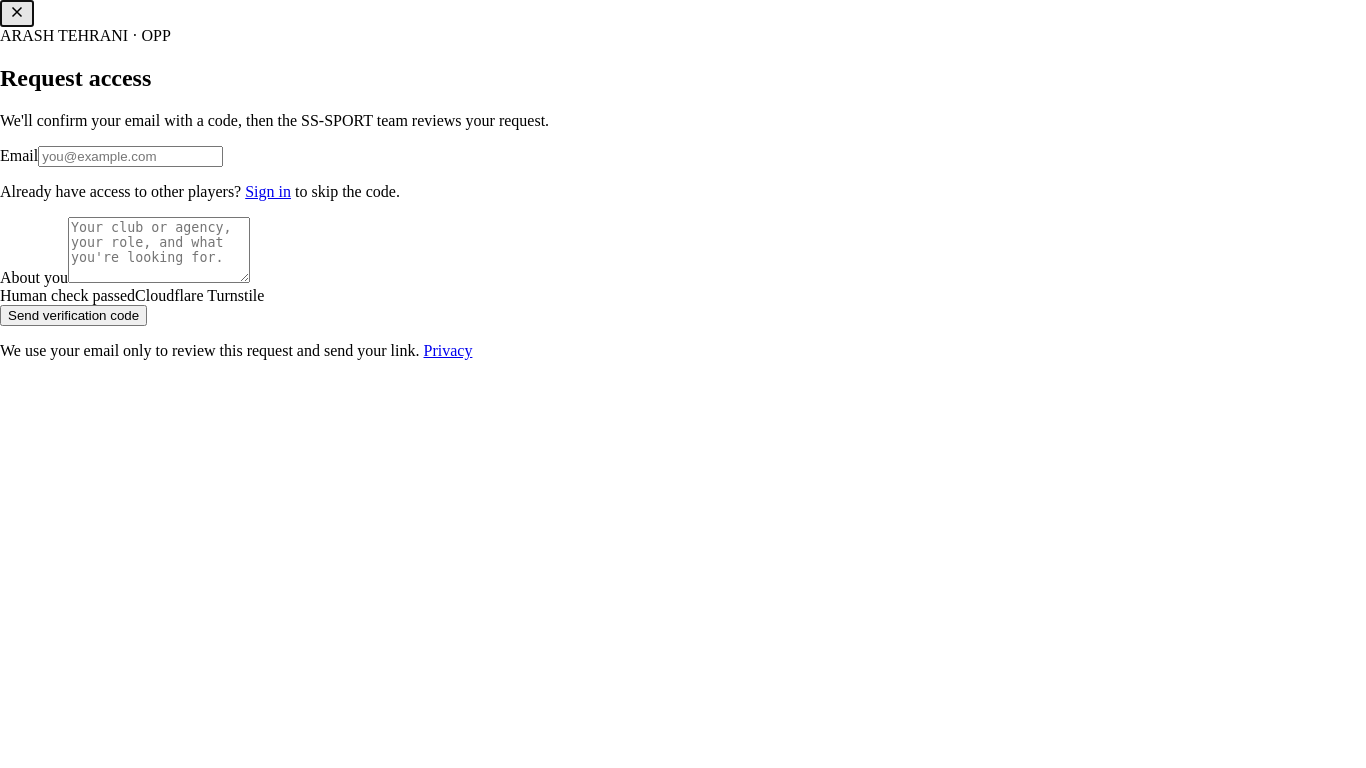
Test: RequestAccessModal (P-3 UI, canvas Locked modal), signed out › asks for all six digits before sending
The width and height of the screenshot is (1366, 768).
Type "scout@club.com" into the field labelled "Email" at {"x": 131, "y": 156}, box [38,146,223,167]
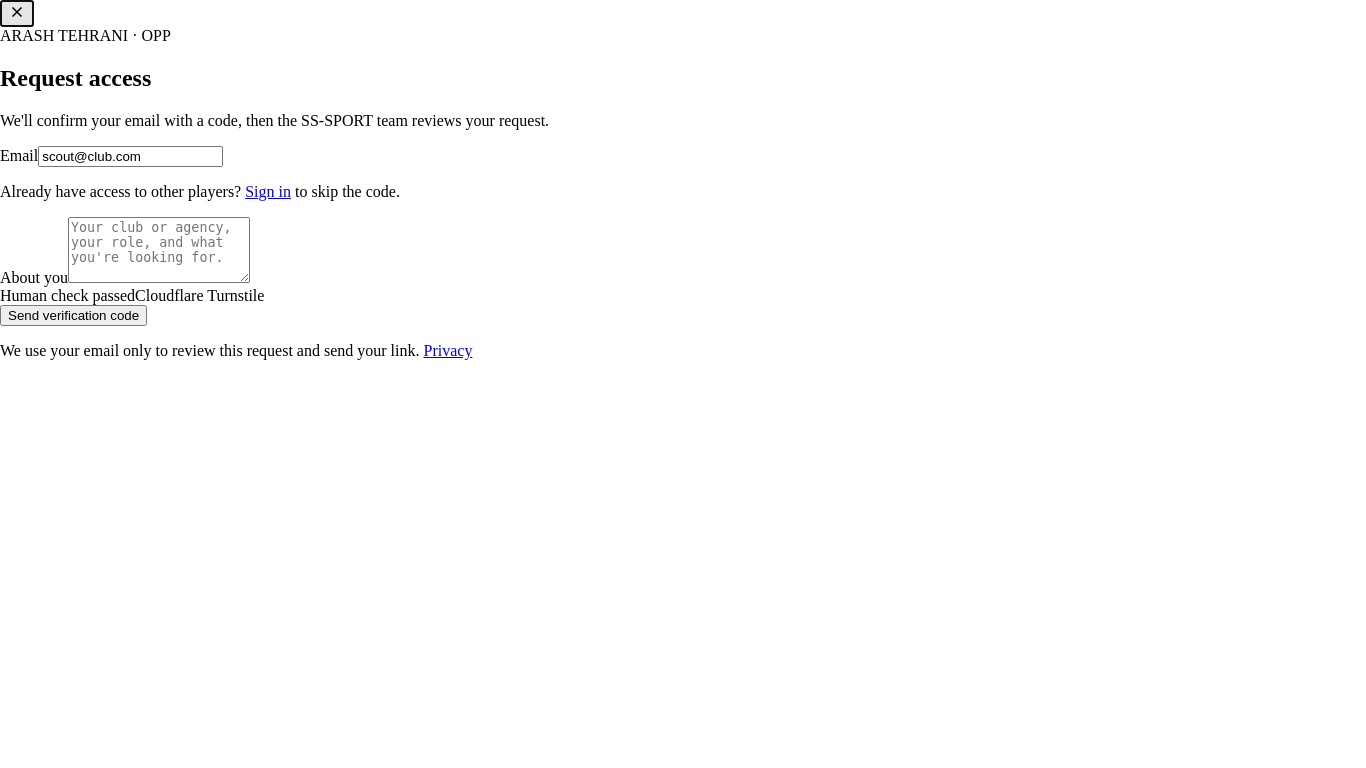
Type "Head scout at Club Aurora" into the text box labelled "About you" at {"x": 159, "y": 250}, box [68,217,250,283]
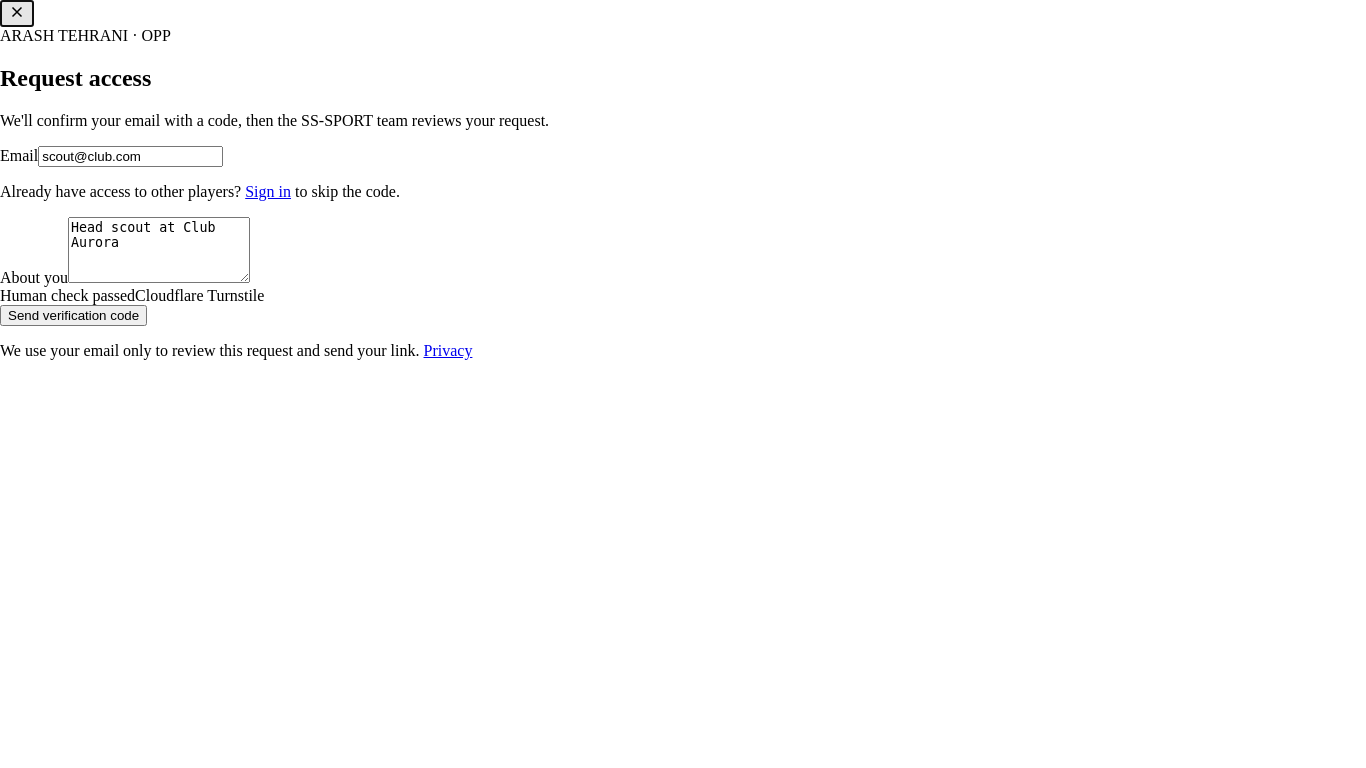
Click the button "Send verification code" at {"x": 74, "y": 315}, box [0,305,147,326]
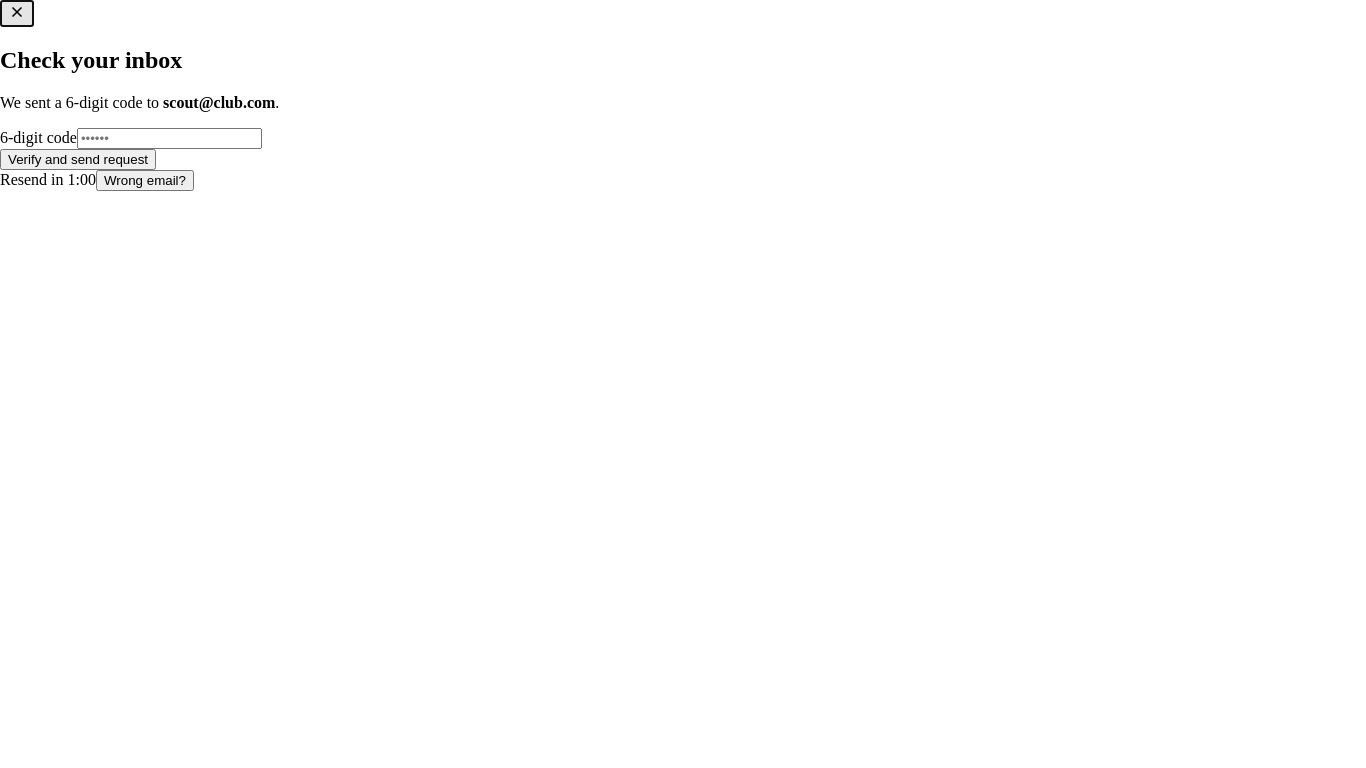
Type "123" into the field labelled "6-digit code" at {"x": 169, "y": 138}, box [77,128,262,149]
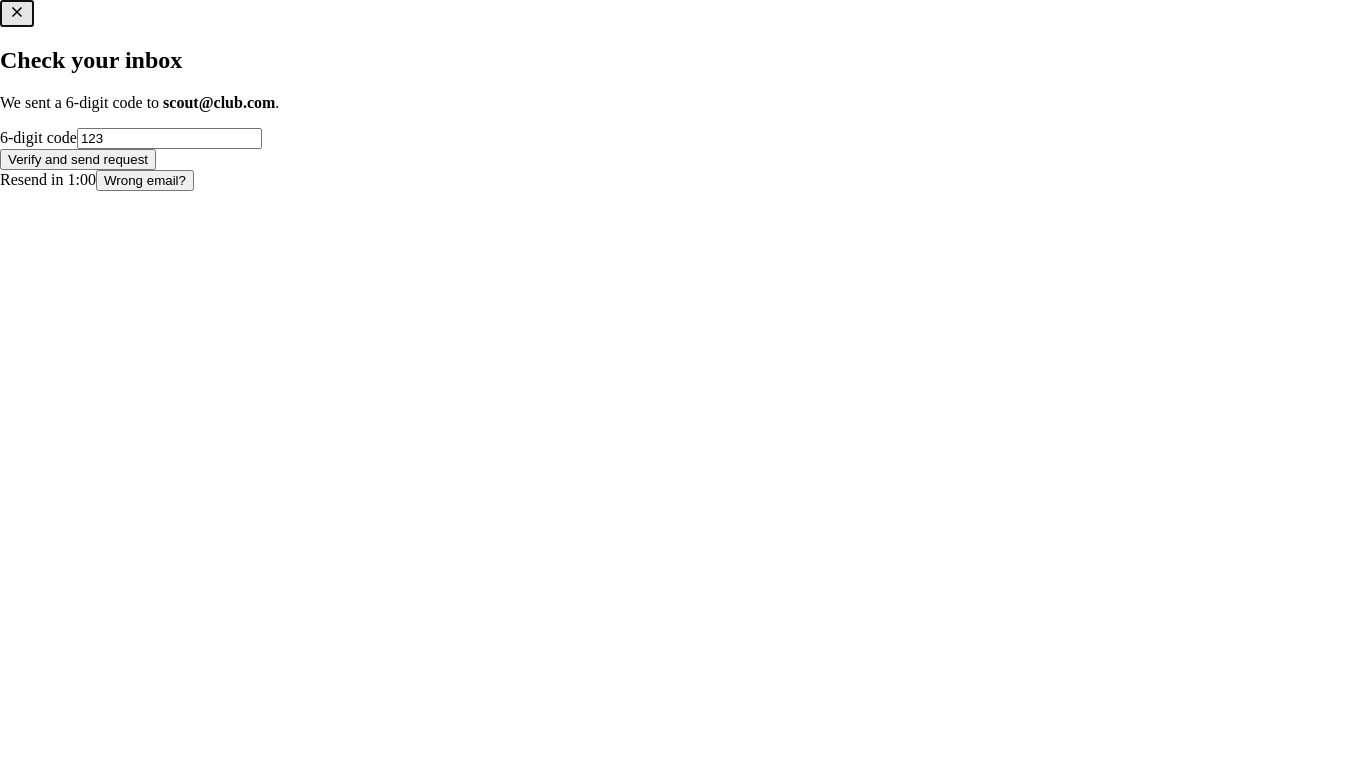
Click the button "Verify and send request" at {"x": 78, "y": 159}, box [0,149,156,170]
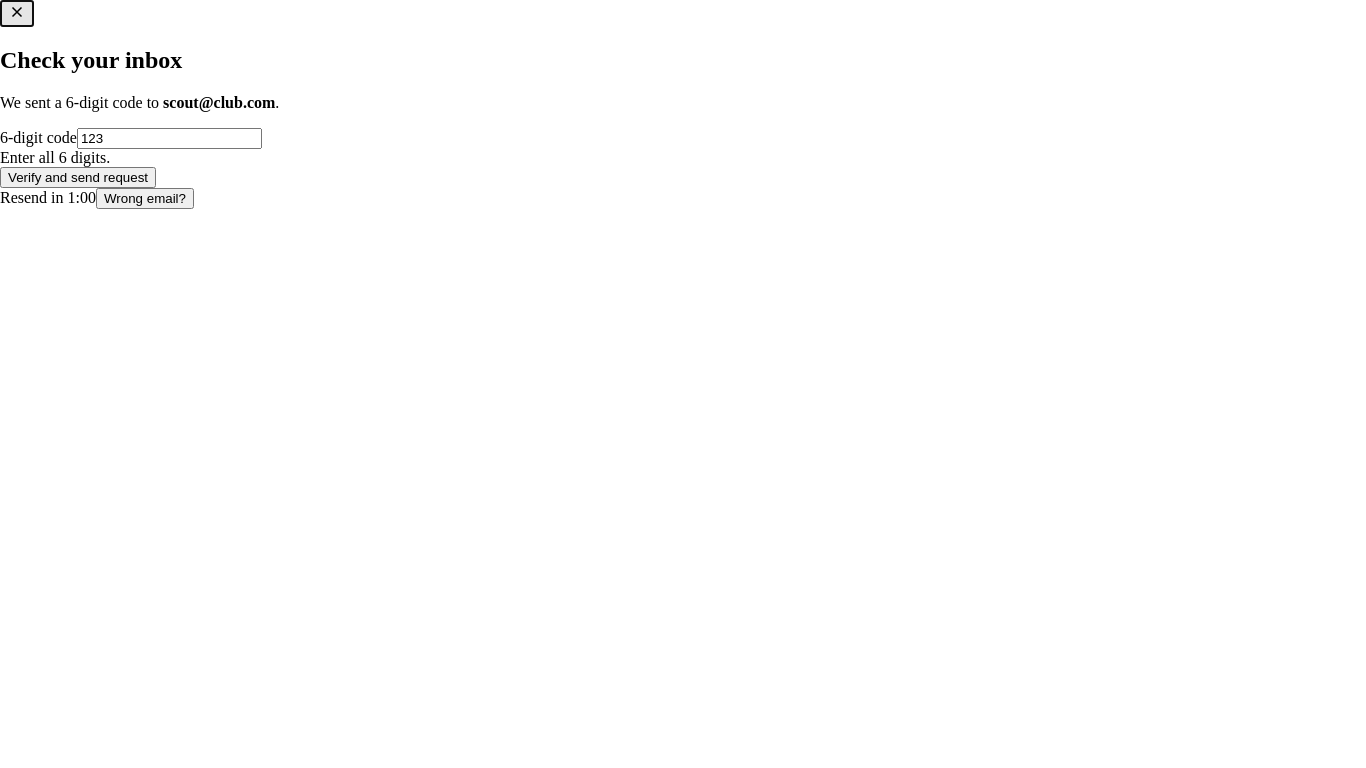
Check: the text "Enter all 6 digits." is shown, box [0,149,110,166]
